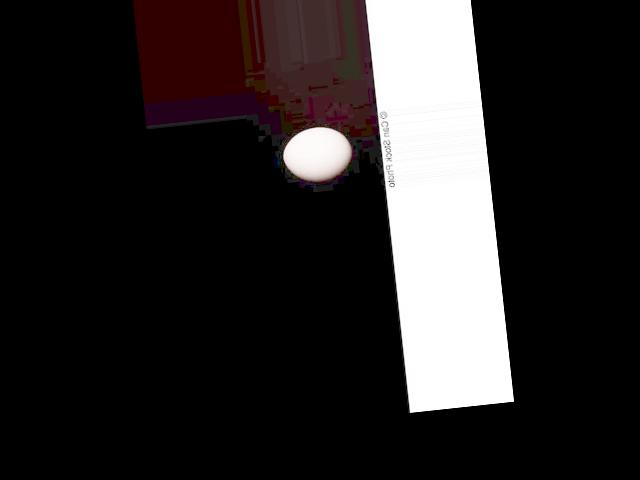egg: (281, 124, 355, 184)
